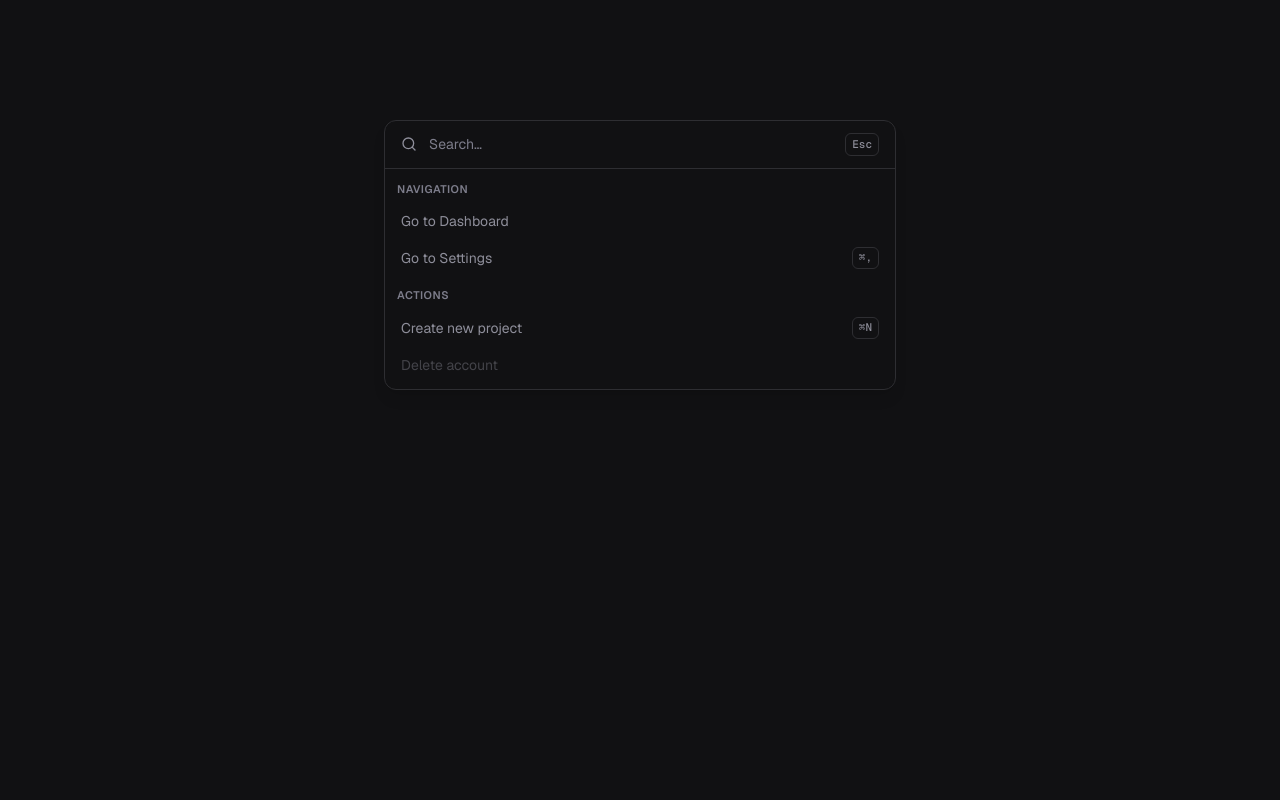
CommandPalette › filters items case-insensitively
This screenshot has width=1280, height=800.
Type "SETTINGS" into the dropdown.
click(631, 144); type("SETTINGS")  # box [429, 134, 833, 154]
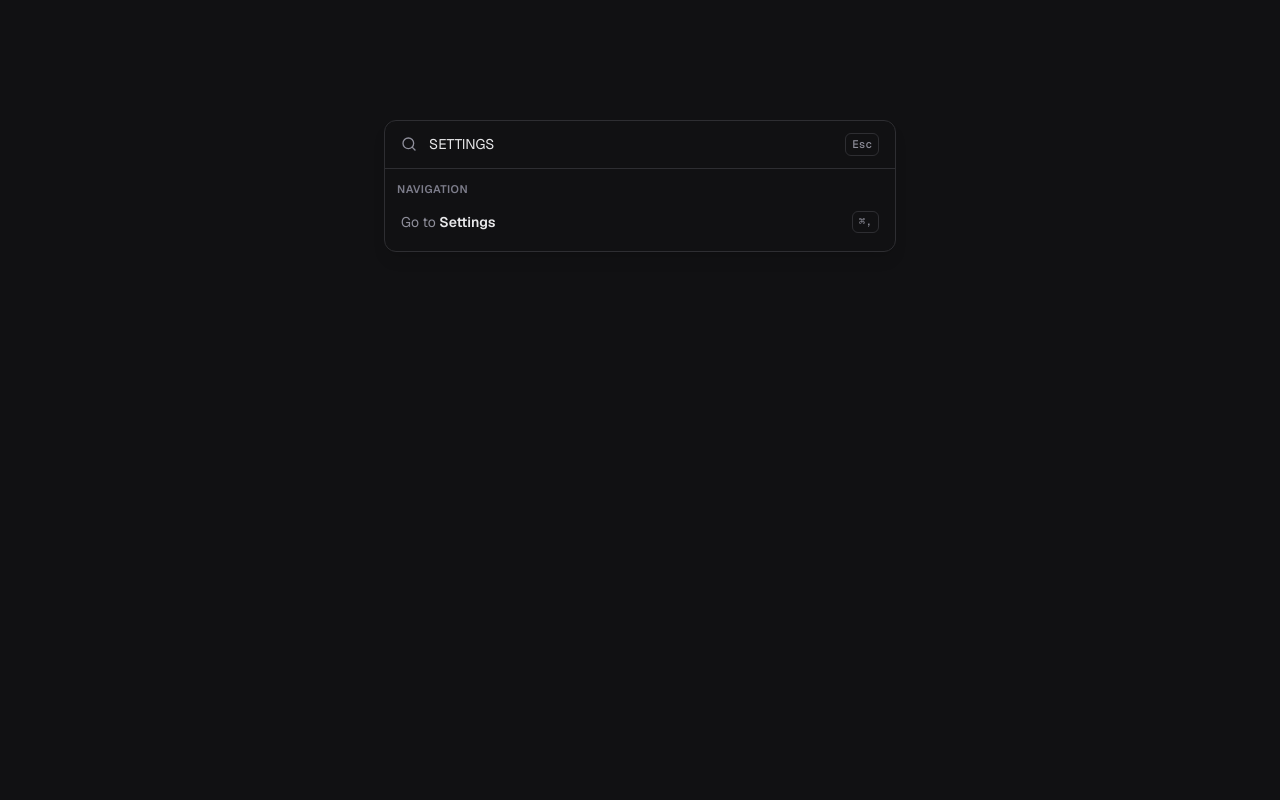
Expected: the option "Go to Settings ⌘," is shown, [401, 211, 879, 233]
Result: the option "Go to Dashboard" is gone
